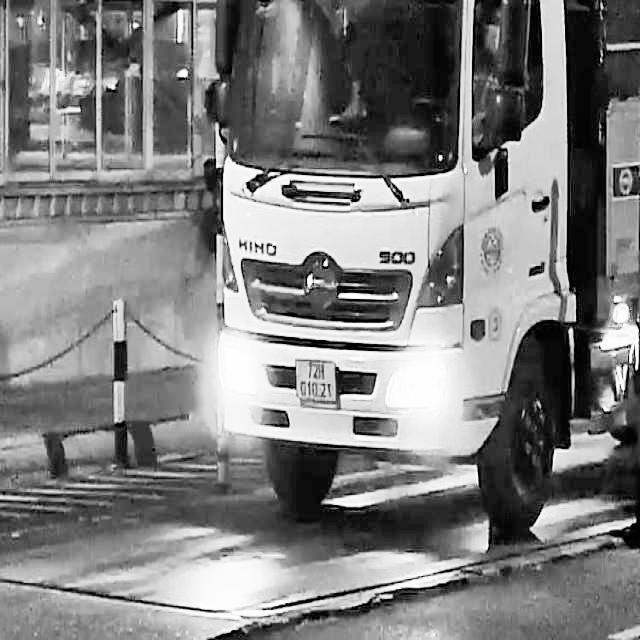Truck: (206, 0, 639, 533)
